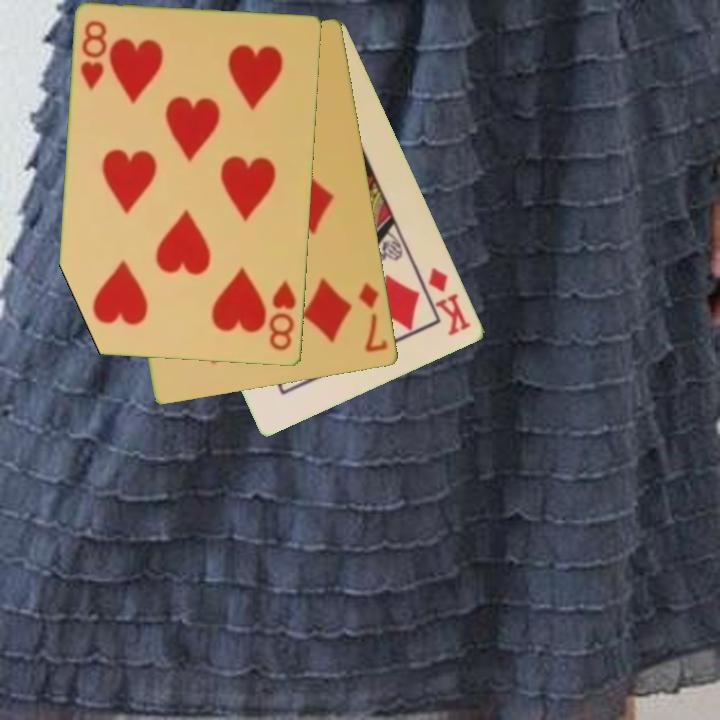7d: (355, 279, 391, 356)
8h: (77, 17, 111, 94), (266, 277, 299, 354)
Kd: (425, 263, 475, 339)
